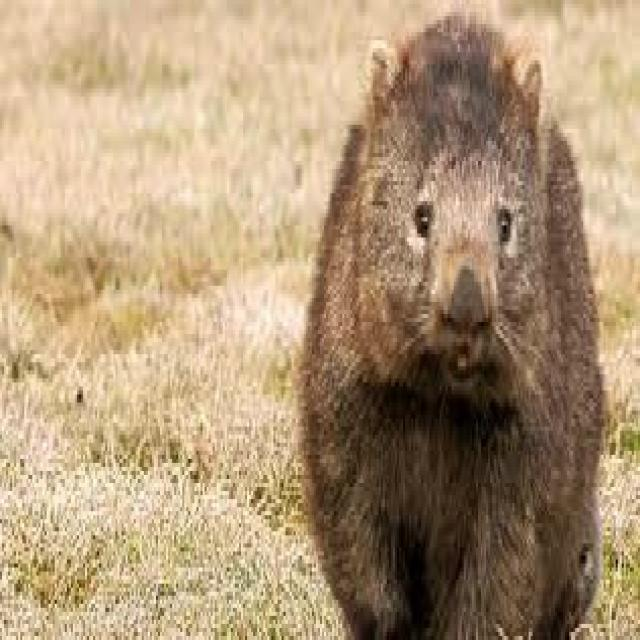wombats: (296, 12, 604, 636), (300, 10, 607, 634), (298, 12, 604, 636)
